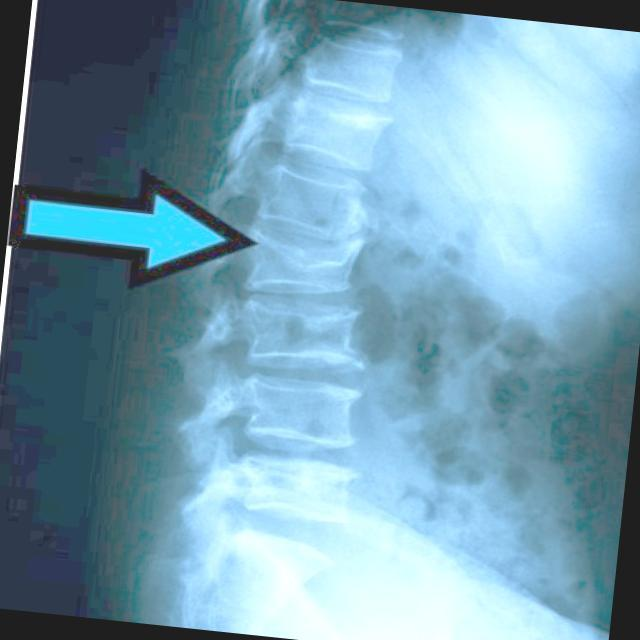Compression-Crush Fracutre: (242, 231, 362, 293)
